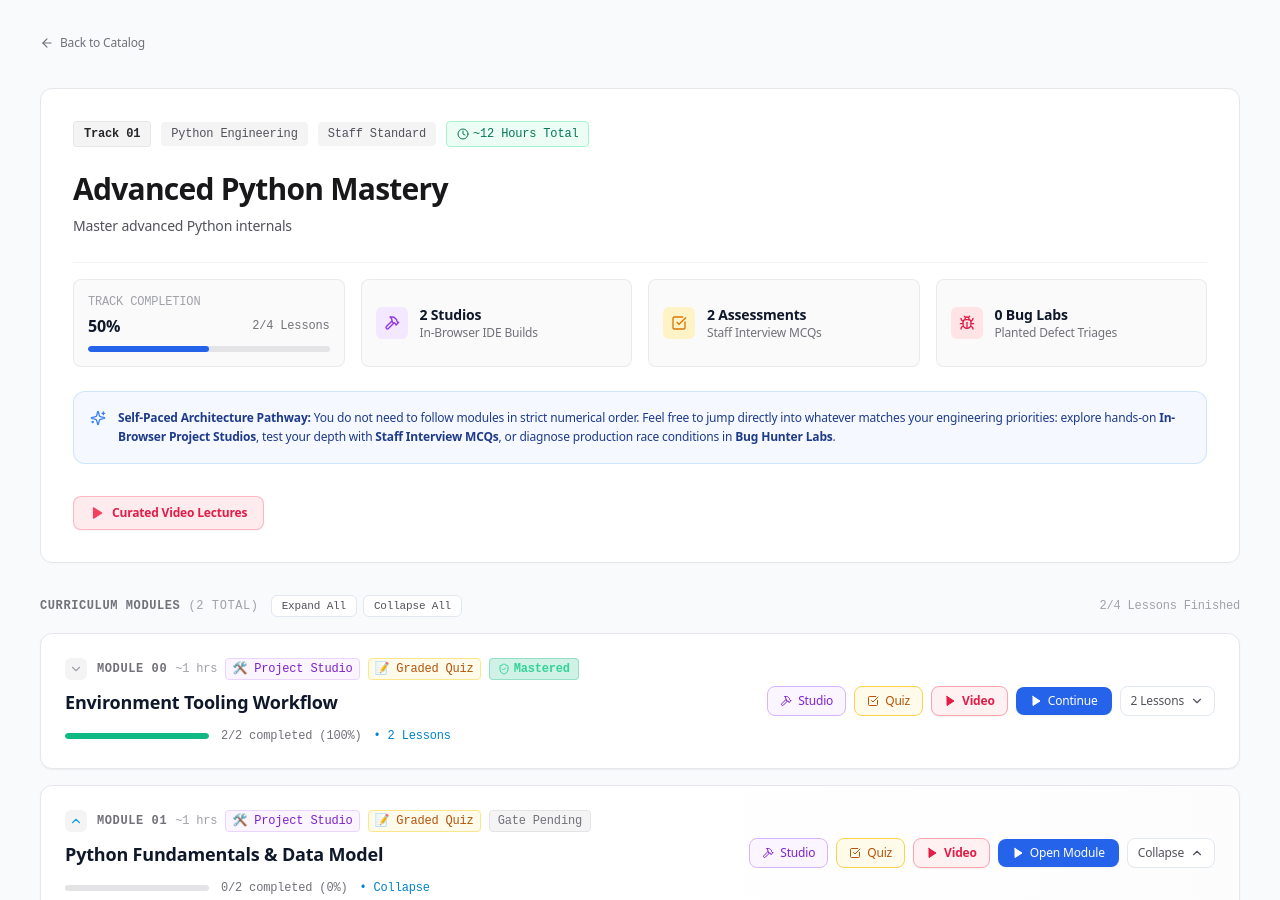
it: SyllabusView Collapsible Module Cards › expands all and collapses all modules using the global controls
# Click Expand All: both module 00 and 01 lessons should be visible
Click the button "Expand All".
click(314, 606)  # box left=271, top=595, right=357, bottom=617
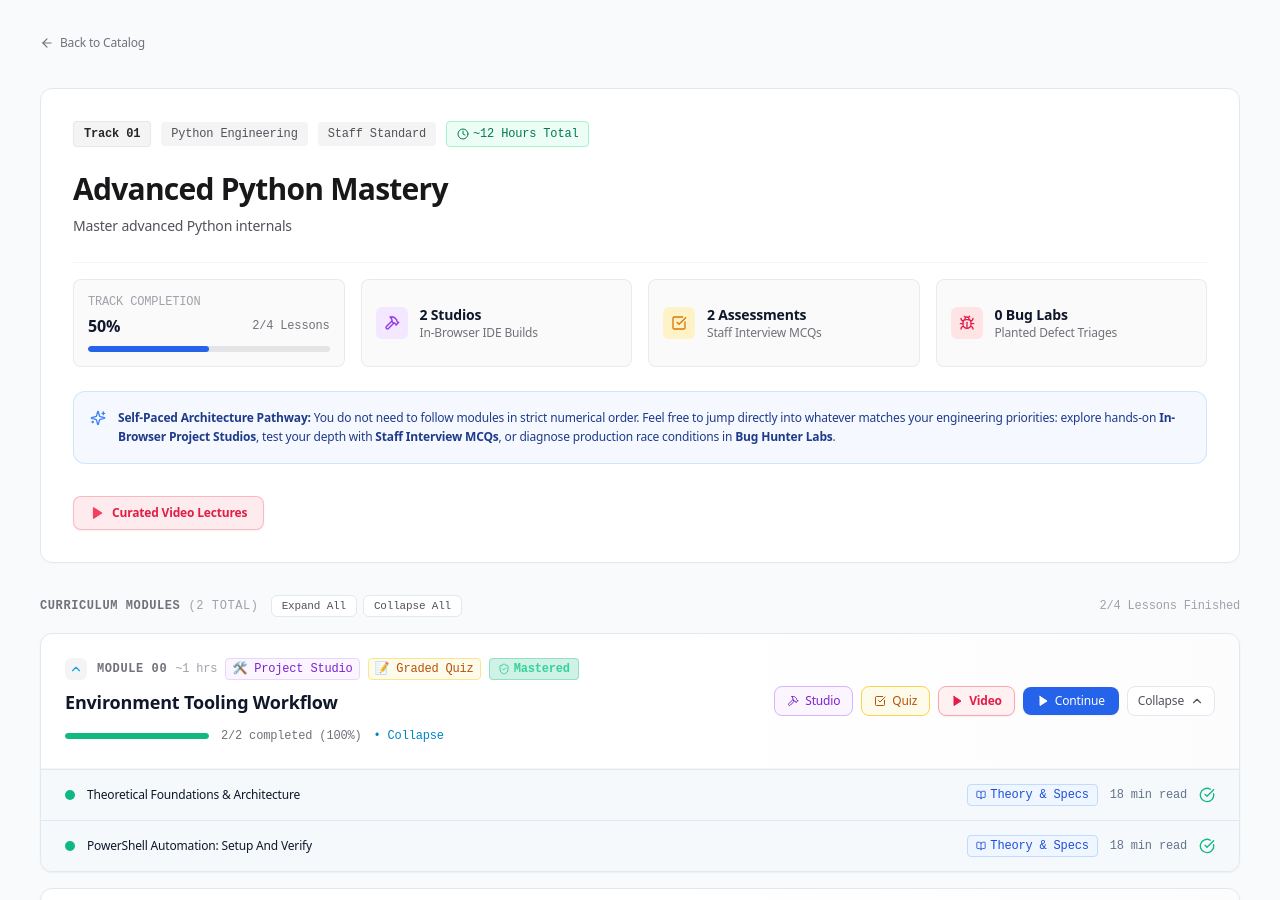
Check: the text "Theoretical Foundations & Architecture" is shown, box left=87, top=787, right=300, bottom=803
# Click Collapse All: no lessons should be visible
Click the button "Collapse All".
click(412, 606)  # box left=363, top=595, right=462, bottom=617
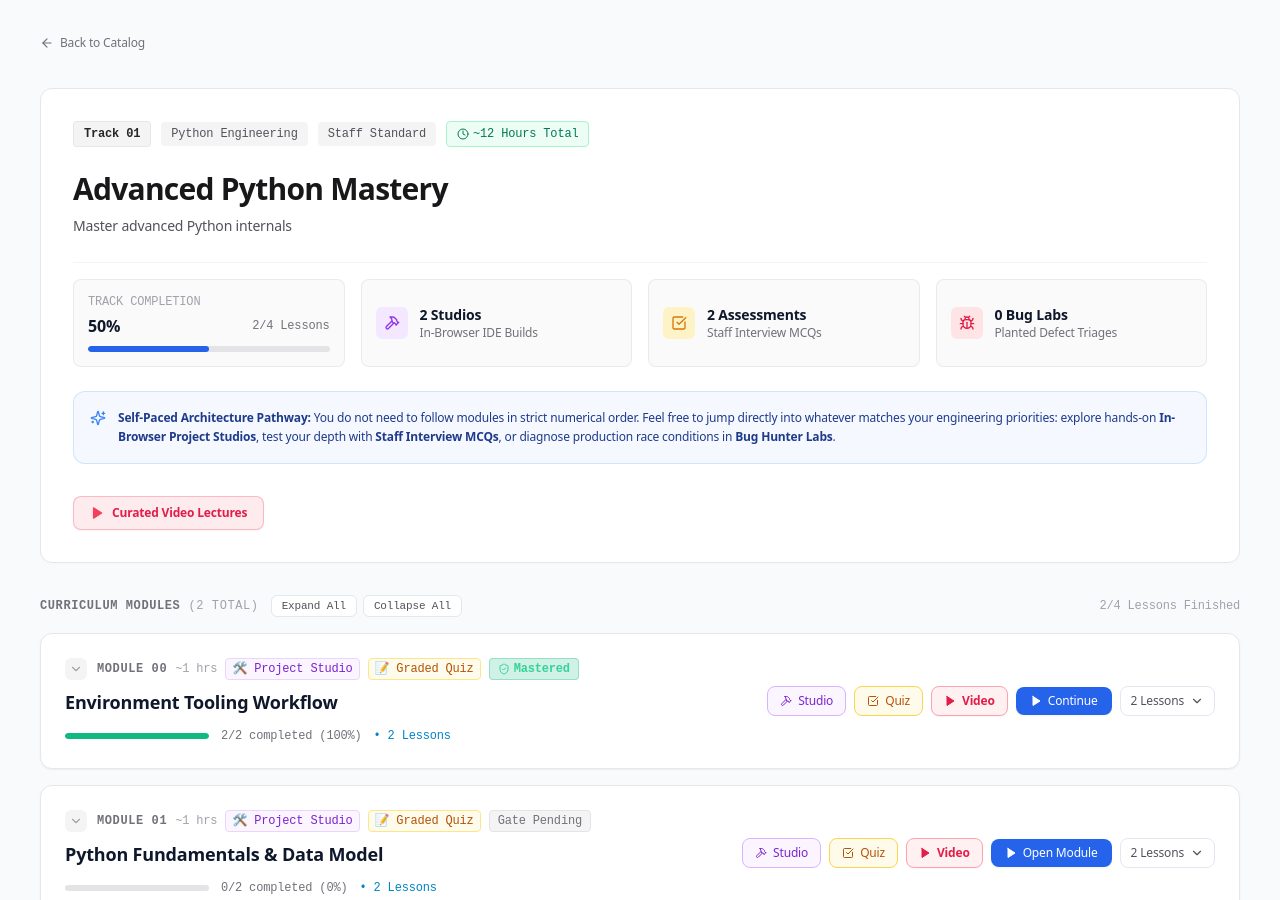
Check: the text "Theoretical Foundations & Architecture" is gone
